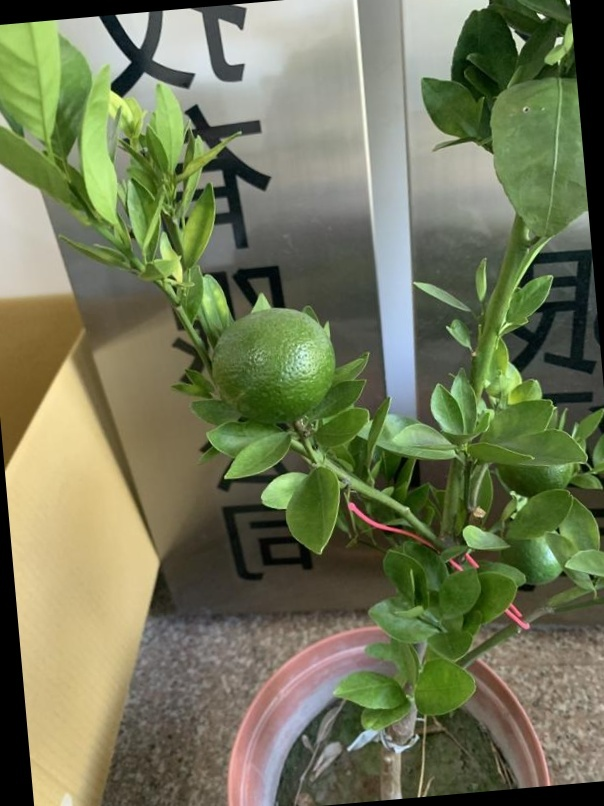Tangerine: (214, 310, 336, 425)
